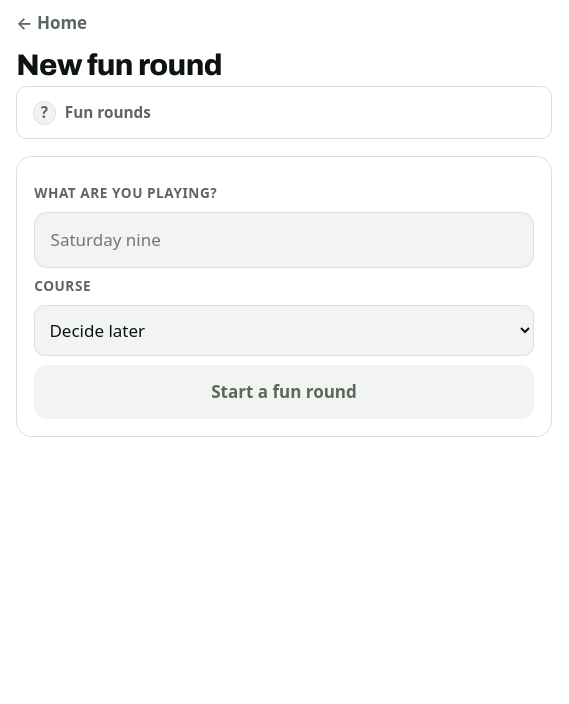
screens render › offers to fill in the holes of a course you created but never set up
Select "Empty Links — no holes" in the dropdown labelled "Course" at x=284, y=331, box [34,305,534,356]
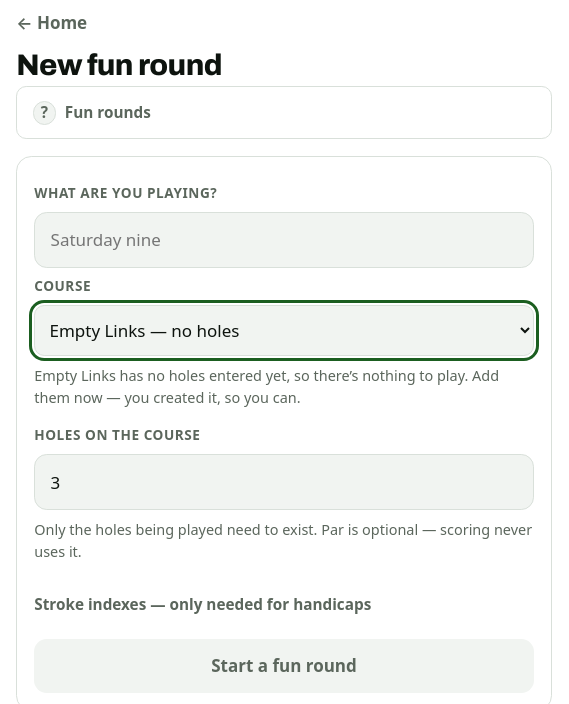
Expected: the text "has no holes entered yet" is shown, [34,366,499,407]
Expected: the number field labelled "Holes on the course" is shown, [34,454,534,510]
